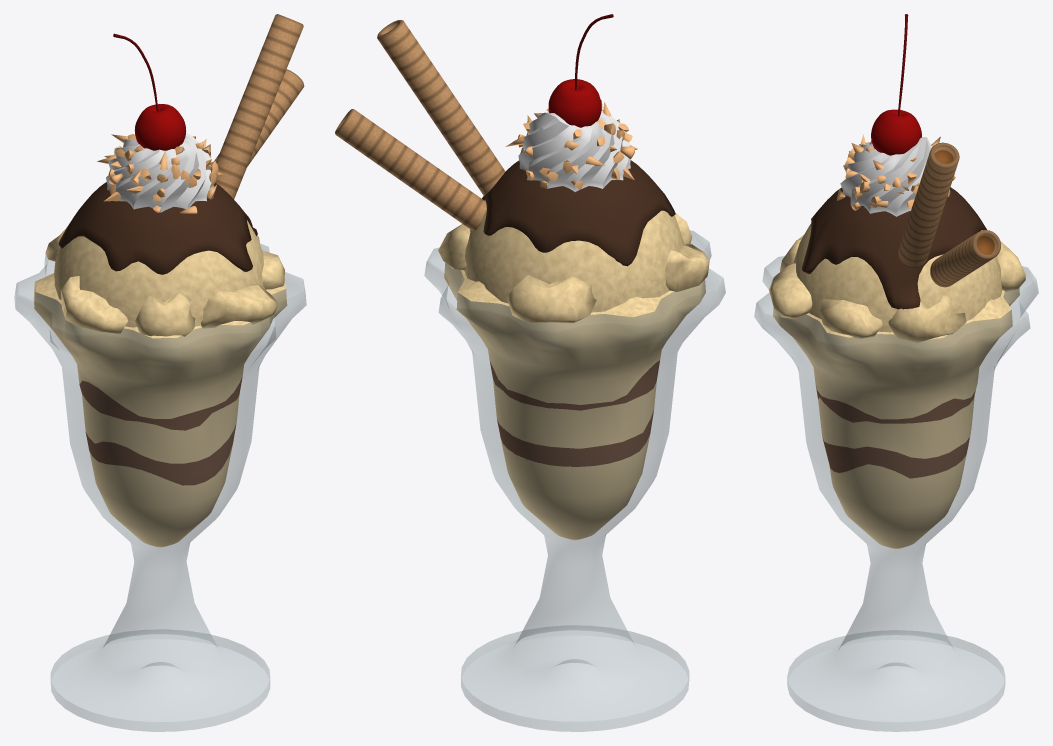
The model's file is ice-cream.glb.
The picture shows the model from 3 angles, left to right: view 1: azimuth 30°, elevation 25°; view 2: azimuth 150°, elevation 25°; view 3: azimuth 270°, elevation 25°; orthographic projection. The views are drawn at different scales.
Visible parts, largest first — view 1: IceCream_Glass, IceCream_Main, IceCream_Chocolate_Top, IceCream_Bar.000, IceCream_Top_Cream, IceCream_Nuts, IceCream_Cherry, IceCream_Bar.001; view 2: IceCream_Glass, IceCream_Main, IceCream_Chocolate_Top, IceCream_Bar.000, IceCream_Top_Cream, IceCream_Bar.001, IceCream_Cherry, IceCream_Nuts; view 3: IceCream_Glass, IceCream_Main, IceCream_Chocolate_Top, IceCream_Bar.000, IceCream_Top_Cream, IceCream_Bar.001, IceCream_Cherry, IceCream_Nuts.
Part boxes in pixels (<box>): IceCream_Glass: <box>14,243,306,731</box>; IceCream_Main: <box>45,220,284,336</box>; IceCream_Chocolate_Top: <box>58,182,257,274</box>; IceCream_Bar.000: <box>215,14,303,198</box>; IceCream_Top_Cream: <box>106,132,213,212</box>; IceCream_Nuts: <box>97,134,223,213</box>; IceCream_Cherry: <box>113,33,186,150</box>; IceCream_Bar.001: <box>214,69,304,166</box>; IceCream_Glass: <box>424,230,725,731</box>; IceCream_Main: <box>438,200,709,323</box>; IceCream_Chocolate_Top: <box>482,160,675,266</box>; IceCream_Bar.000: <box>377,20,505,195</box>; IceCream_Top_Cream: <box>518,111,630,191</box>; IceCream_Bar.001: <box>335,109,486,230</box>; IceCream_Cherry: <box>548,14,613,127</box>; IceCream_Nuts: <box>505,100,637,189</box>; IceCream_Glass: <box>754,256,1038,731</box>; IceCream_Main: <box>769,223,1025,342</box>; IceCream_Chocolate_Top: <box>802,187,986,309</box>; IceCream_Bar.000: <box>898,142,959,268</box>; IceCream_Top_Cream: <box>840,137,932,216</box>; IceCream_Bar.001: <box>930,230,1000,287</box>; IceCream_Cherry: <box>871,14,921,155</box>; IceCream_Nuts: <box>836,134,955,210</box>.
Bounding box in the file's own units: 19.5 × 39.66 × 15.69.
7 materials, 5 textured.
